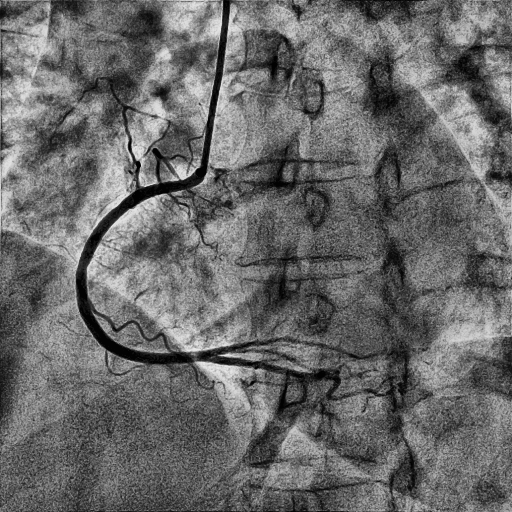pborca: (211, 337, 395, 359)
pda: (206, 354, 391, 401)
rca: (75, 168, 206, 364)
